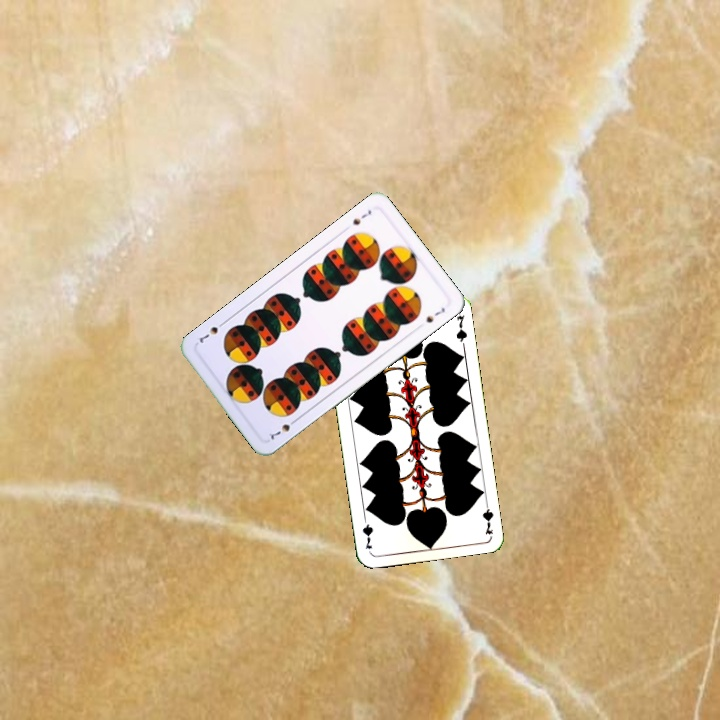G7: (478, 495, 496, 537)
S7: (265, 415, 300, 442), (349, 205, 374, 228)
